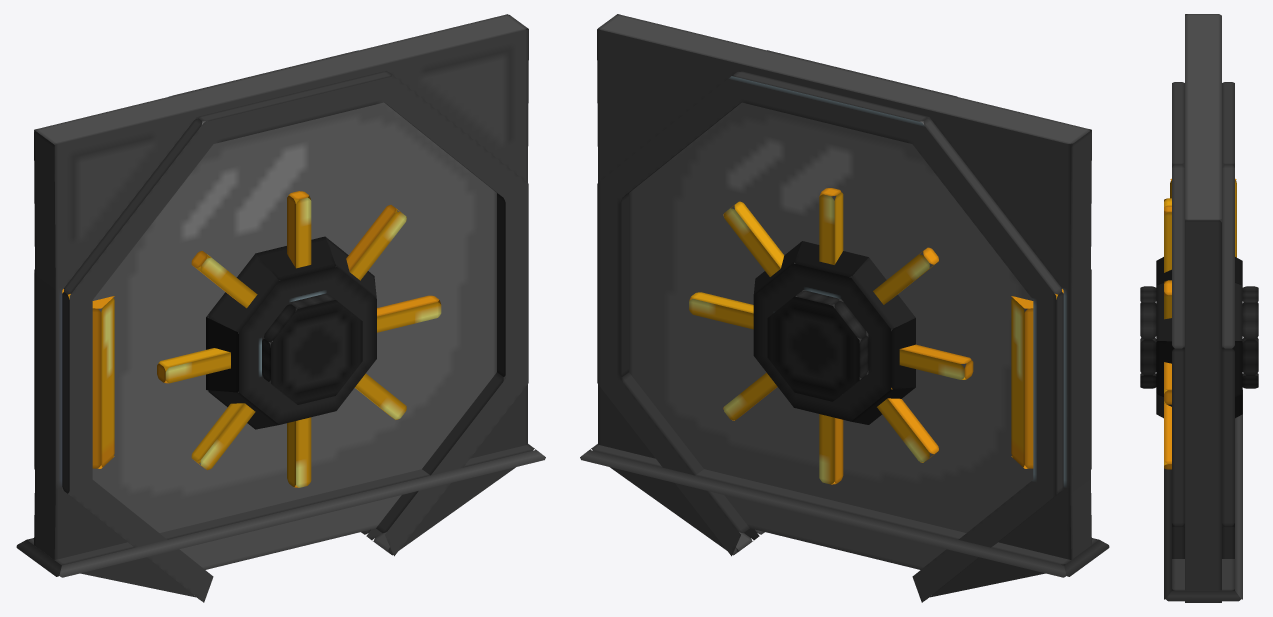
File: VaultDoor.fbx
The picture shows the model from 3 angles, left to right: view 1: azimuth 30°, elevation 25°; view 2: azimuth 150°, elevation 25°; view 3: azimuth 270°, elevation 25°; orthographic projection. The views are drawn at different scales.
Parts seen in each view (by area): view 1: Rahmen, Tor, Schloss; view 2: Rahmen, Tor, Schloss; view 3: Rahmen, Schloss.
Part boxes in pixels (bbox=[...]): Rahmen: bbox=[16, 14, 545, 602]; Tor: bbox=[71, 102, 496, 569]; Schloss: bbox=[157, 191, 441, 487]; Rahmen: bbox=[580, 14, 1109, 602]; Tor: bbox=[629, 102, 1054, 569]; Schloss: bbox=[689, 188, 973, 484]; Rahmen: bbox=[1164, 14, 1242, 602]; Schloss: bbox=[1140, 198, 1258, 469].
Size of the model in its own units: 400 by 385 by 93.62.
1 material, 1 textured.
